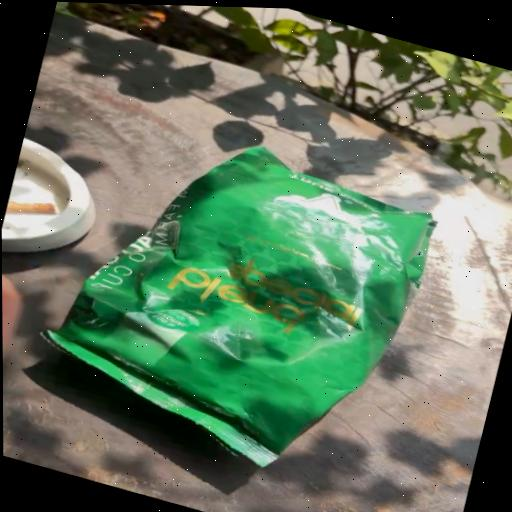cafe_xay: (48, 148, 435, 467)
